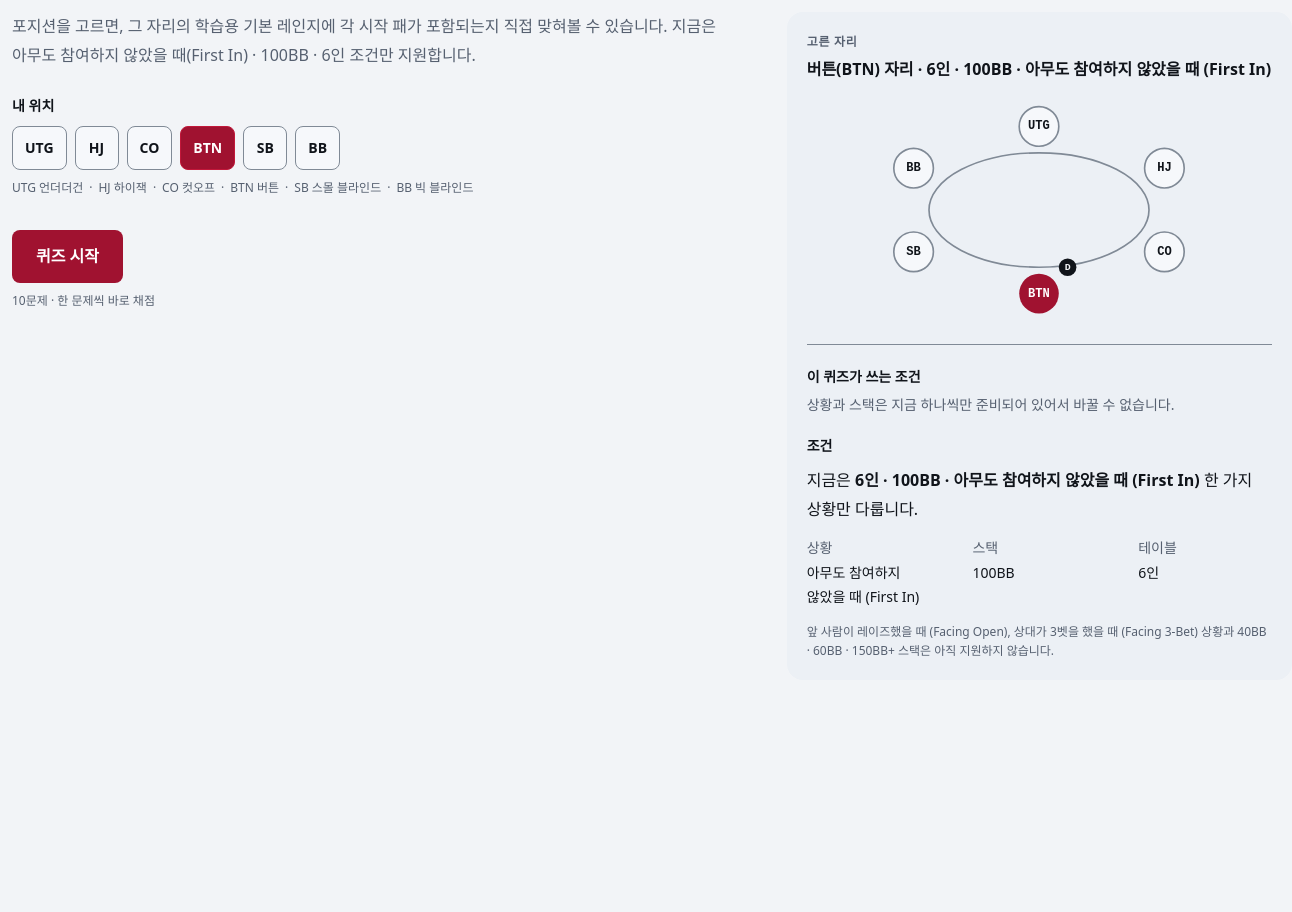
it: RangeQuiz — setup screen › switching back to a supported position re-enables 퀴즈 시작 and clears the explanation
The width and height of the screenshot is (1292, 912).
What coordinates should you click on to do the following:
click the button "BB"
I would click on:
 (318, 148)
Its box is [295, 126, 340, 170].
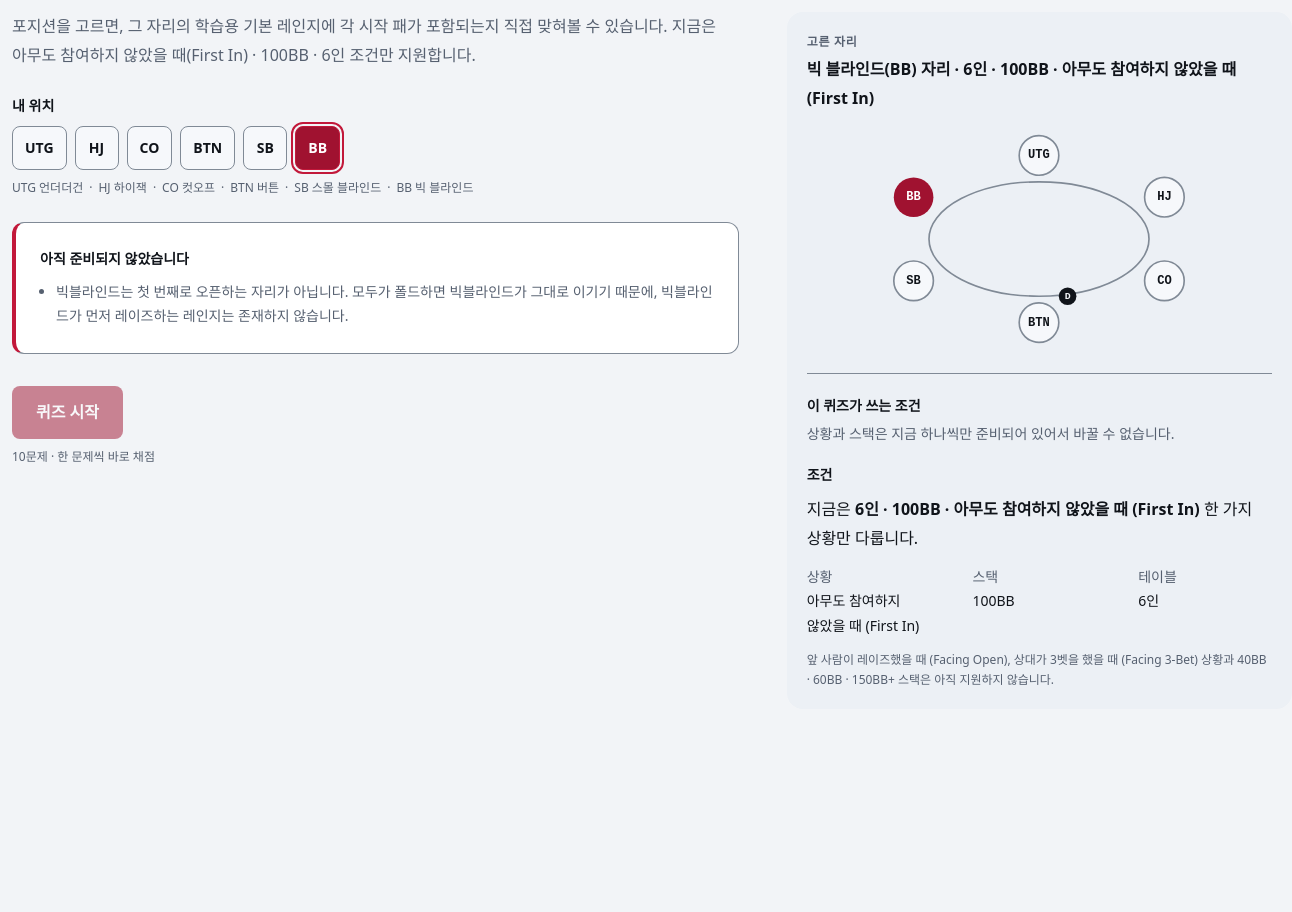
expect the button "퀴즈 시작" is disabled: met, box [12, 386, 123, 439]
What coordinates should you click on to do the following:
click the button "CO"
I would click on:
 (149, 148)
Its box is [126, 126, 172, 170].
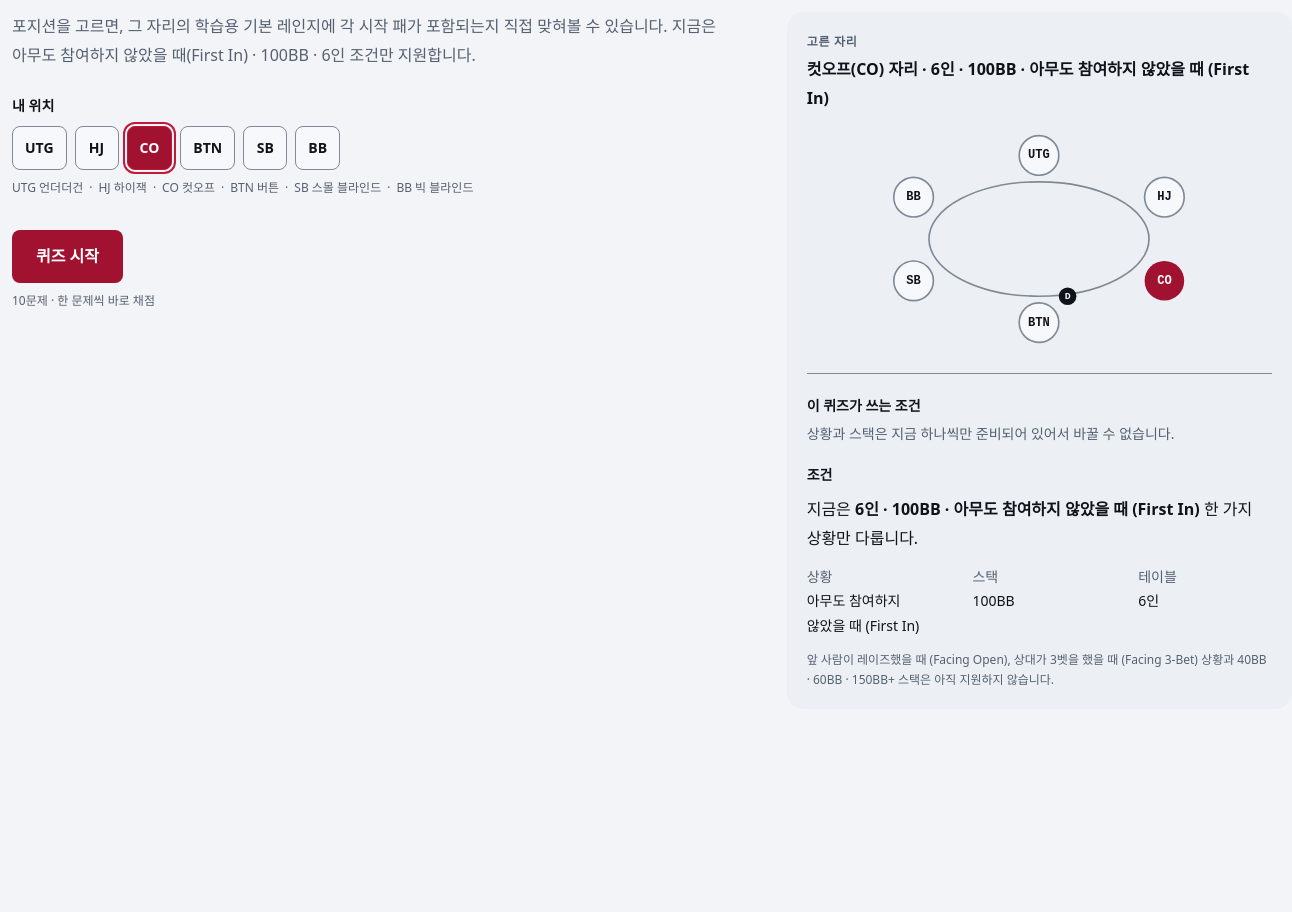
expect the button "퀴즈 시작" is enabled: met, box [12, 230, 123, 283]
expect the list item "빅블라인드는 첫 번째로 오픈하는 자리가 아닙니다" is gone: met
